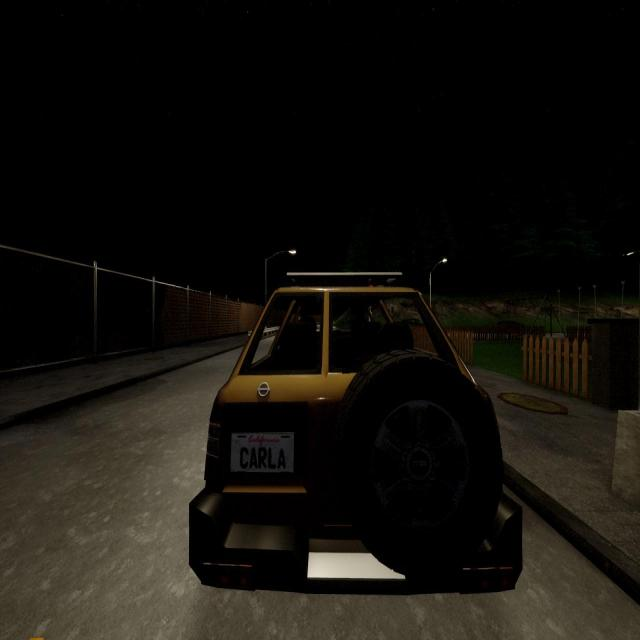Vehicle: (189, 272, 521, 594)
